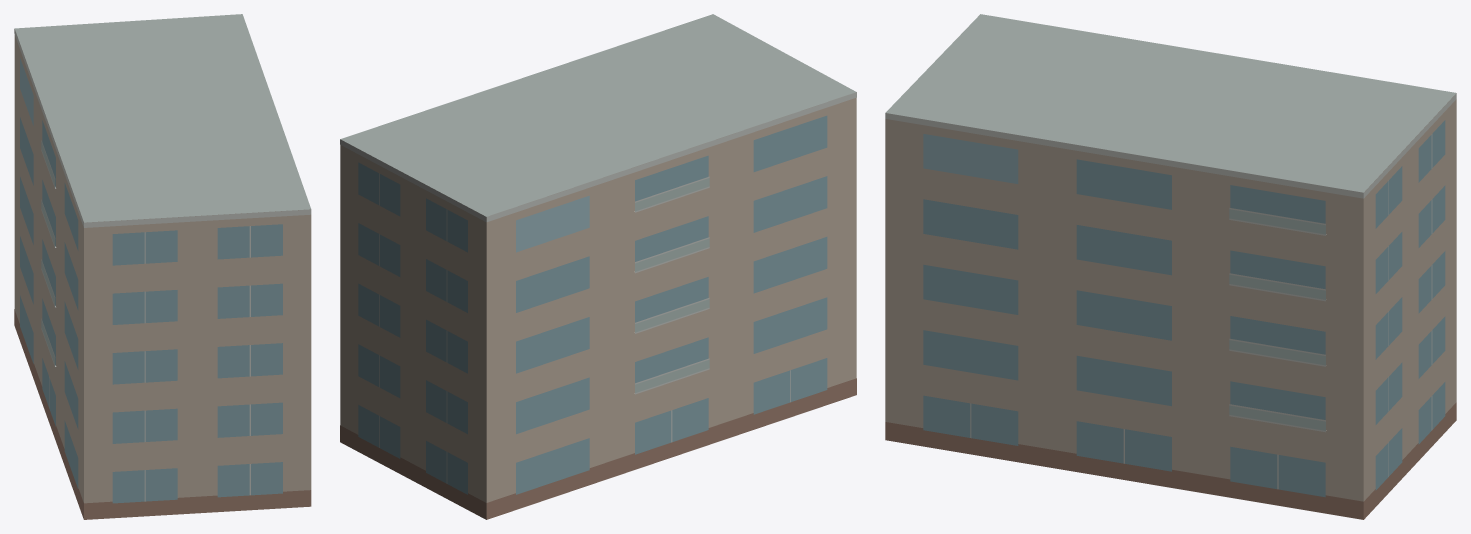
The model's file is survey-upis-32664423.glb.
The picture shows the model from 3 angles, left to right: view 1: azimuth 30°, elevation 25°; view 2: azimuth 150°, elevation 25°; view 3: azimuth 270°, elevation 25°; orthographic projection. The views are drawn at different scales.
Visible parts, largest first — view 1: survey-upis-32664423.tmp; view 2: survey-upis-32664423.tmp; view 3: survey-upis-32664423.tmp.
Boxes of the visible parts, x1,y1,x2,y2 form: survey-upis-32664423.tmp: [14, 14, 311, 519]; survey-upis-32664423.tmp: [340, 14, 856, 519]; survey-upis-32664423.tmp: [885, 14, 1456, 519].
Size of the model in its own units: 15.76 by 13.45 by 21.3.
